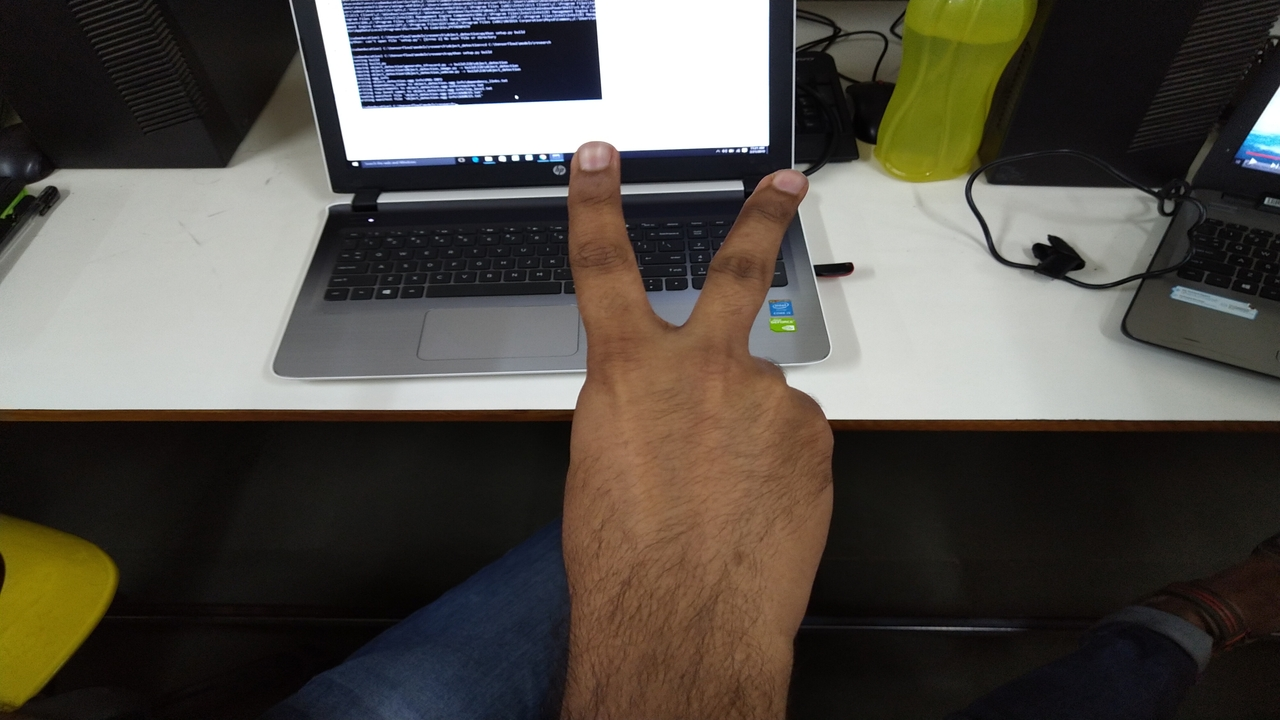fingertip: (754, 158, 818, 216), (568, 130, 624, 178)
